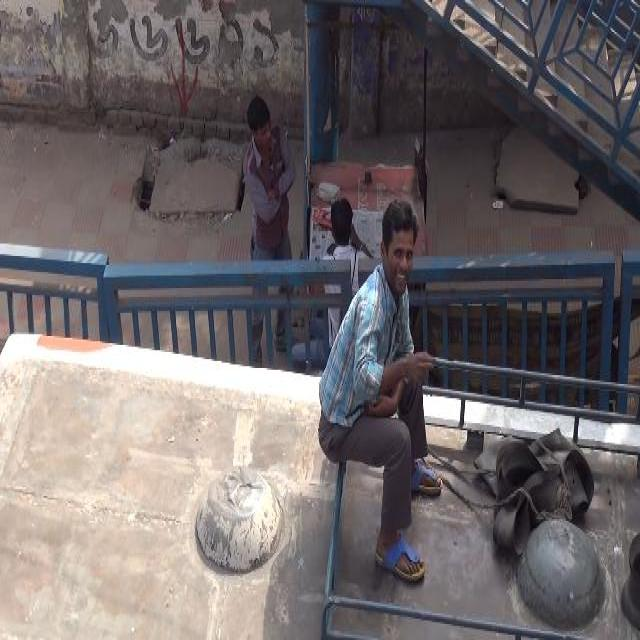Truck: (1, 316, 639, 638)
